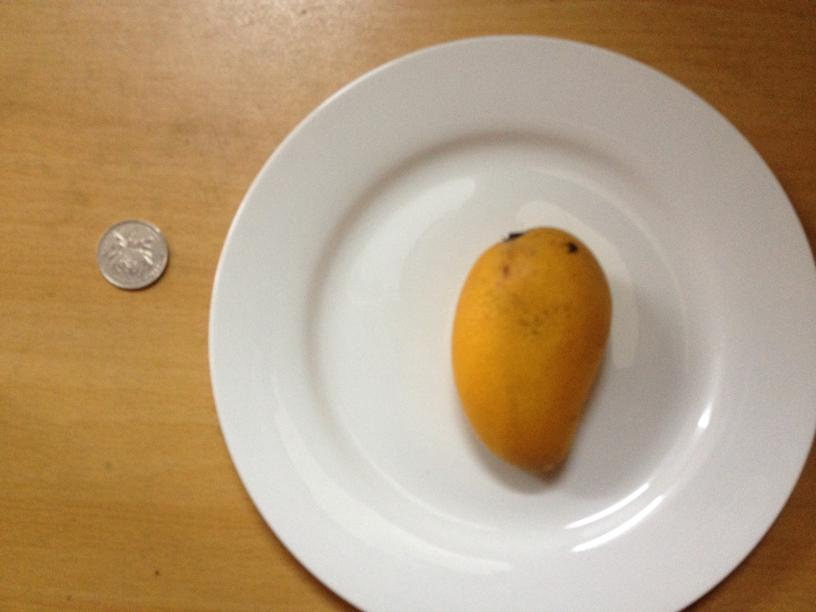coin: (95, 222, 168, 291)
mango: (455, 226, 611, 478)
